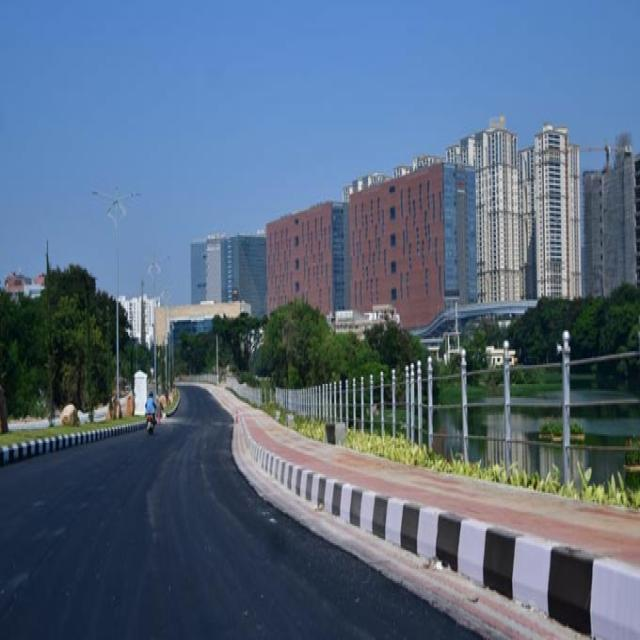Clean road: (0, 308, 640, 640)
